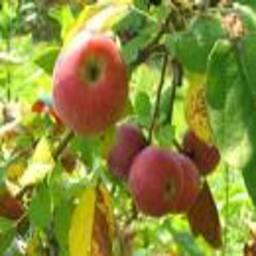apple: (48, 30, 128, 137), (126, 144, 200, 218)
